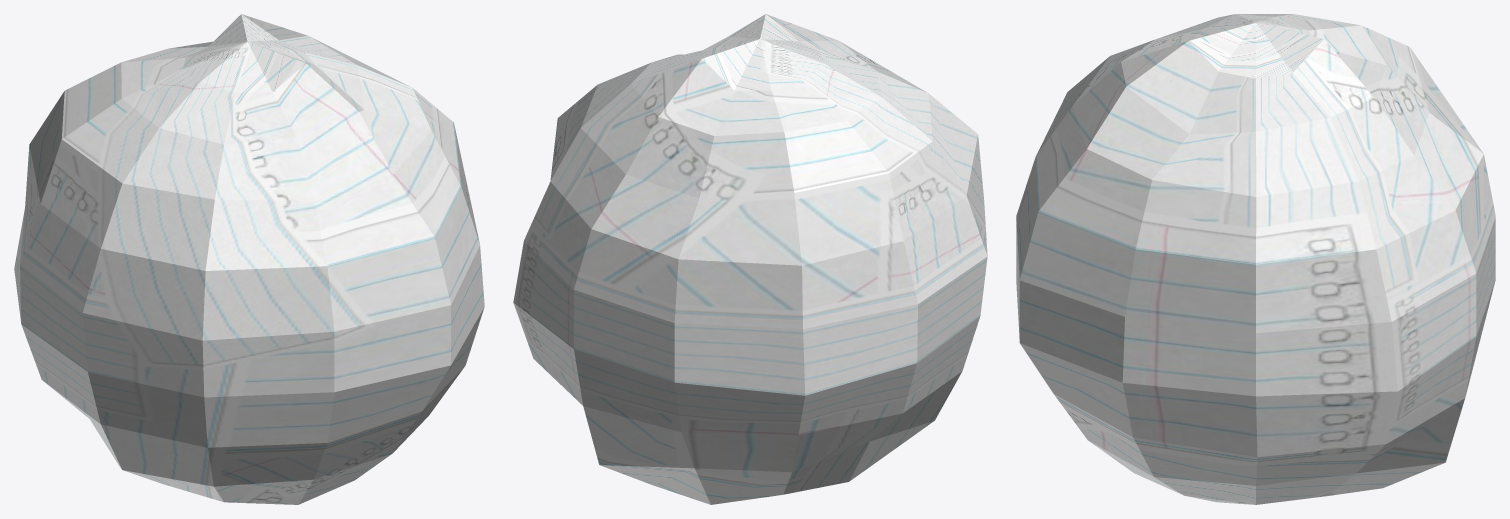
The model's file is BallPaper.fbx.
3 views of the same model, side by side, from view 1: azimuth 30°, elevation 25°; view 2: azimuth 150°, elevation 25°; view 3: azimuth 270°, elevation 25° (orthographic). The views are drawn at different scales.
Parts seen in each view (by area): view 1: BallPaper; view 2: BallPaper; view 3: BallPaper.
Part boxes in pixels (x1,y1,x2,y2): BallPaper: (14,14,484,504); BallPaper: (513,14,987,504); BallPaper: (1016,14,1495,504).
Bounding box in the file's own units: 79.72 × 83.16 × 78.38.
